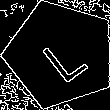L_NW: (32, 25, 89, 84)
